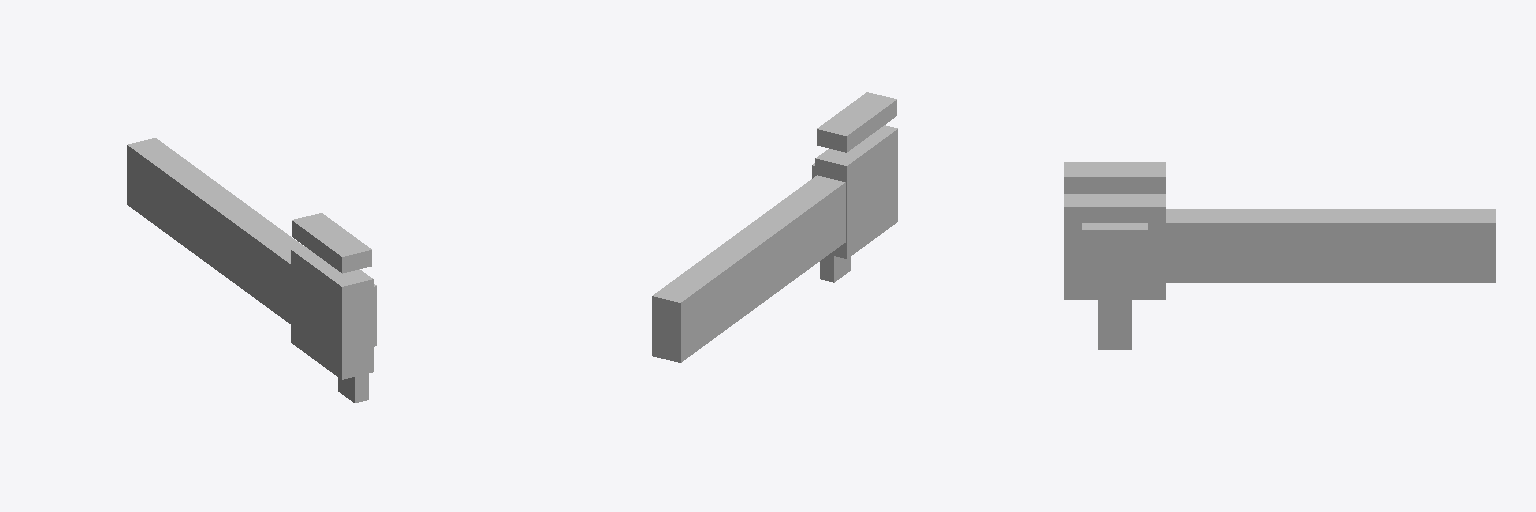
File: right_p_rod.obj
The picture shows the model from 3 angles: view 1: azimuth 30°, elevation 25°; view 2: azimuth 150°, elevation 25°; view 3: azimuth 270°, elevation 25°; orthographic projection.
Parts seen in each view (by area): view 1: Rod; view 2: Rod; view 3: Rod.
Part boxes in pixels (x1,y1,x2,y2): Rod: (127, 138, 376, 402); Rod: (652, 92, 897, 362); Rod: (1064, 162, 1495, 349).
Bounding box in the file's own units: 0.1938 × 0.6906 × 1.63.